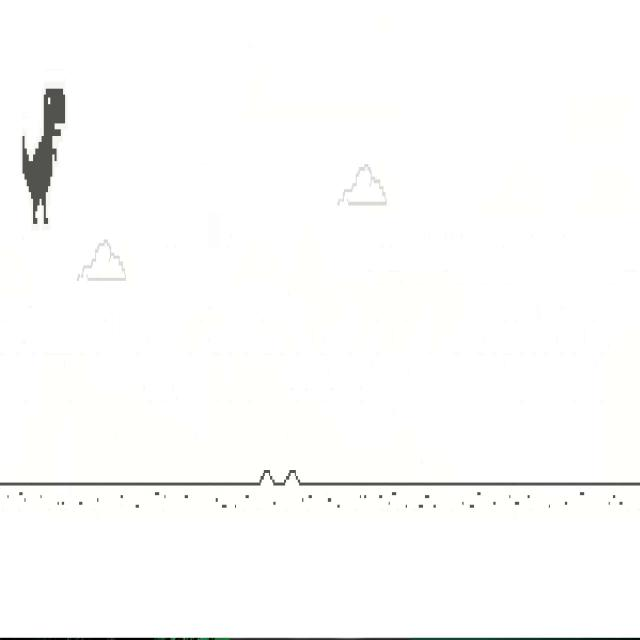dino: (23, 88, 66, 225)
